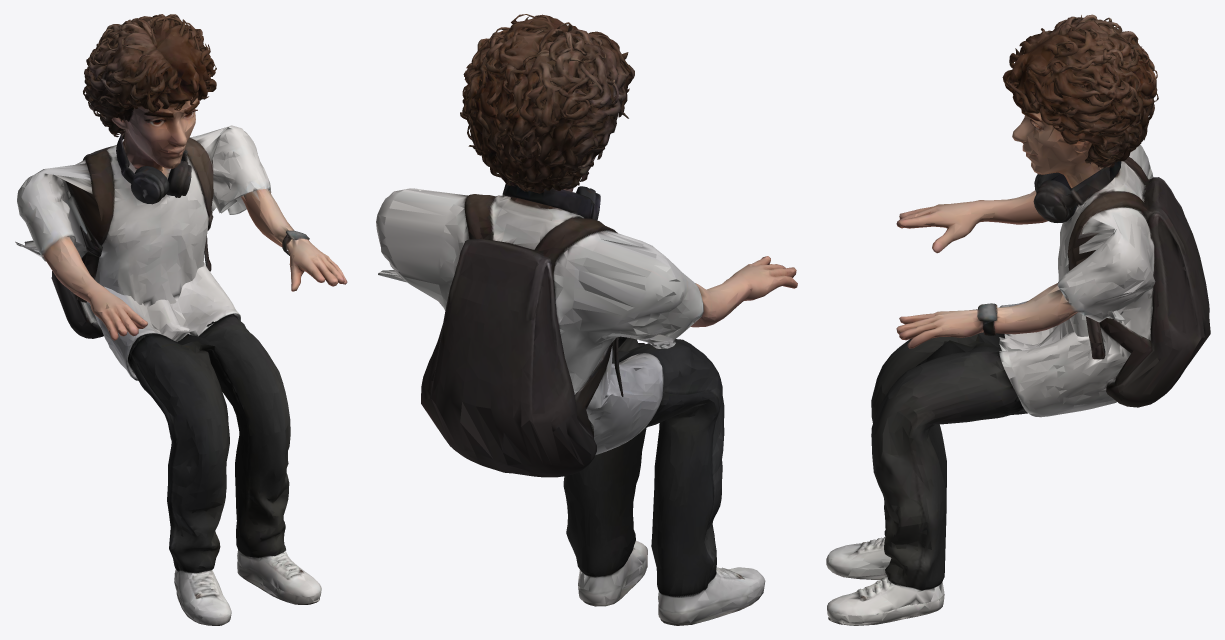
The model's file is student_pashkevich.glb.
3 views of the same model, side by side, from view 1: azimuth 30°, elevation 25°; view 2: azimuth 150°, elevation 25°; view 3: azimuth 270°, elevation 25° (orthographic). The views are drawn at different scales.
Parts seen in each view (by area): view 1: boy character 3d model; view 2: boy character 3d model; view 3: boy character 3d model.
Part boxes in pixels (x1,y1,x2,y2): boy character 3d model: [15, 14, 347, 625]; boy character 3d model: [376, 14, 797, 625]; boy character 3d model: [826, 14, 1210, 625].
Bounding box in the file's own units: 0.6287 × 1.32 × 0.8017.
1 material, 1 textured.
